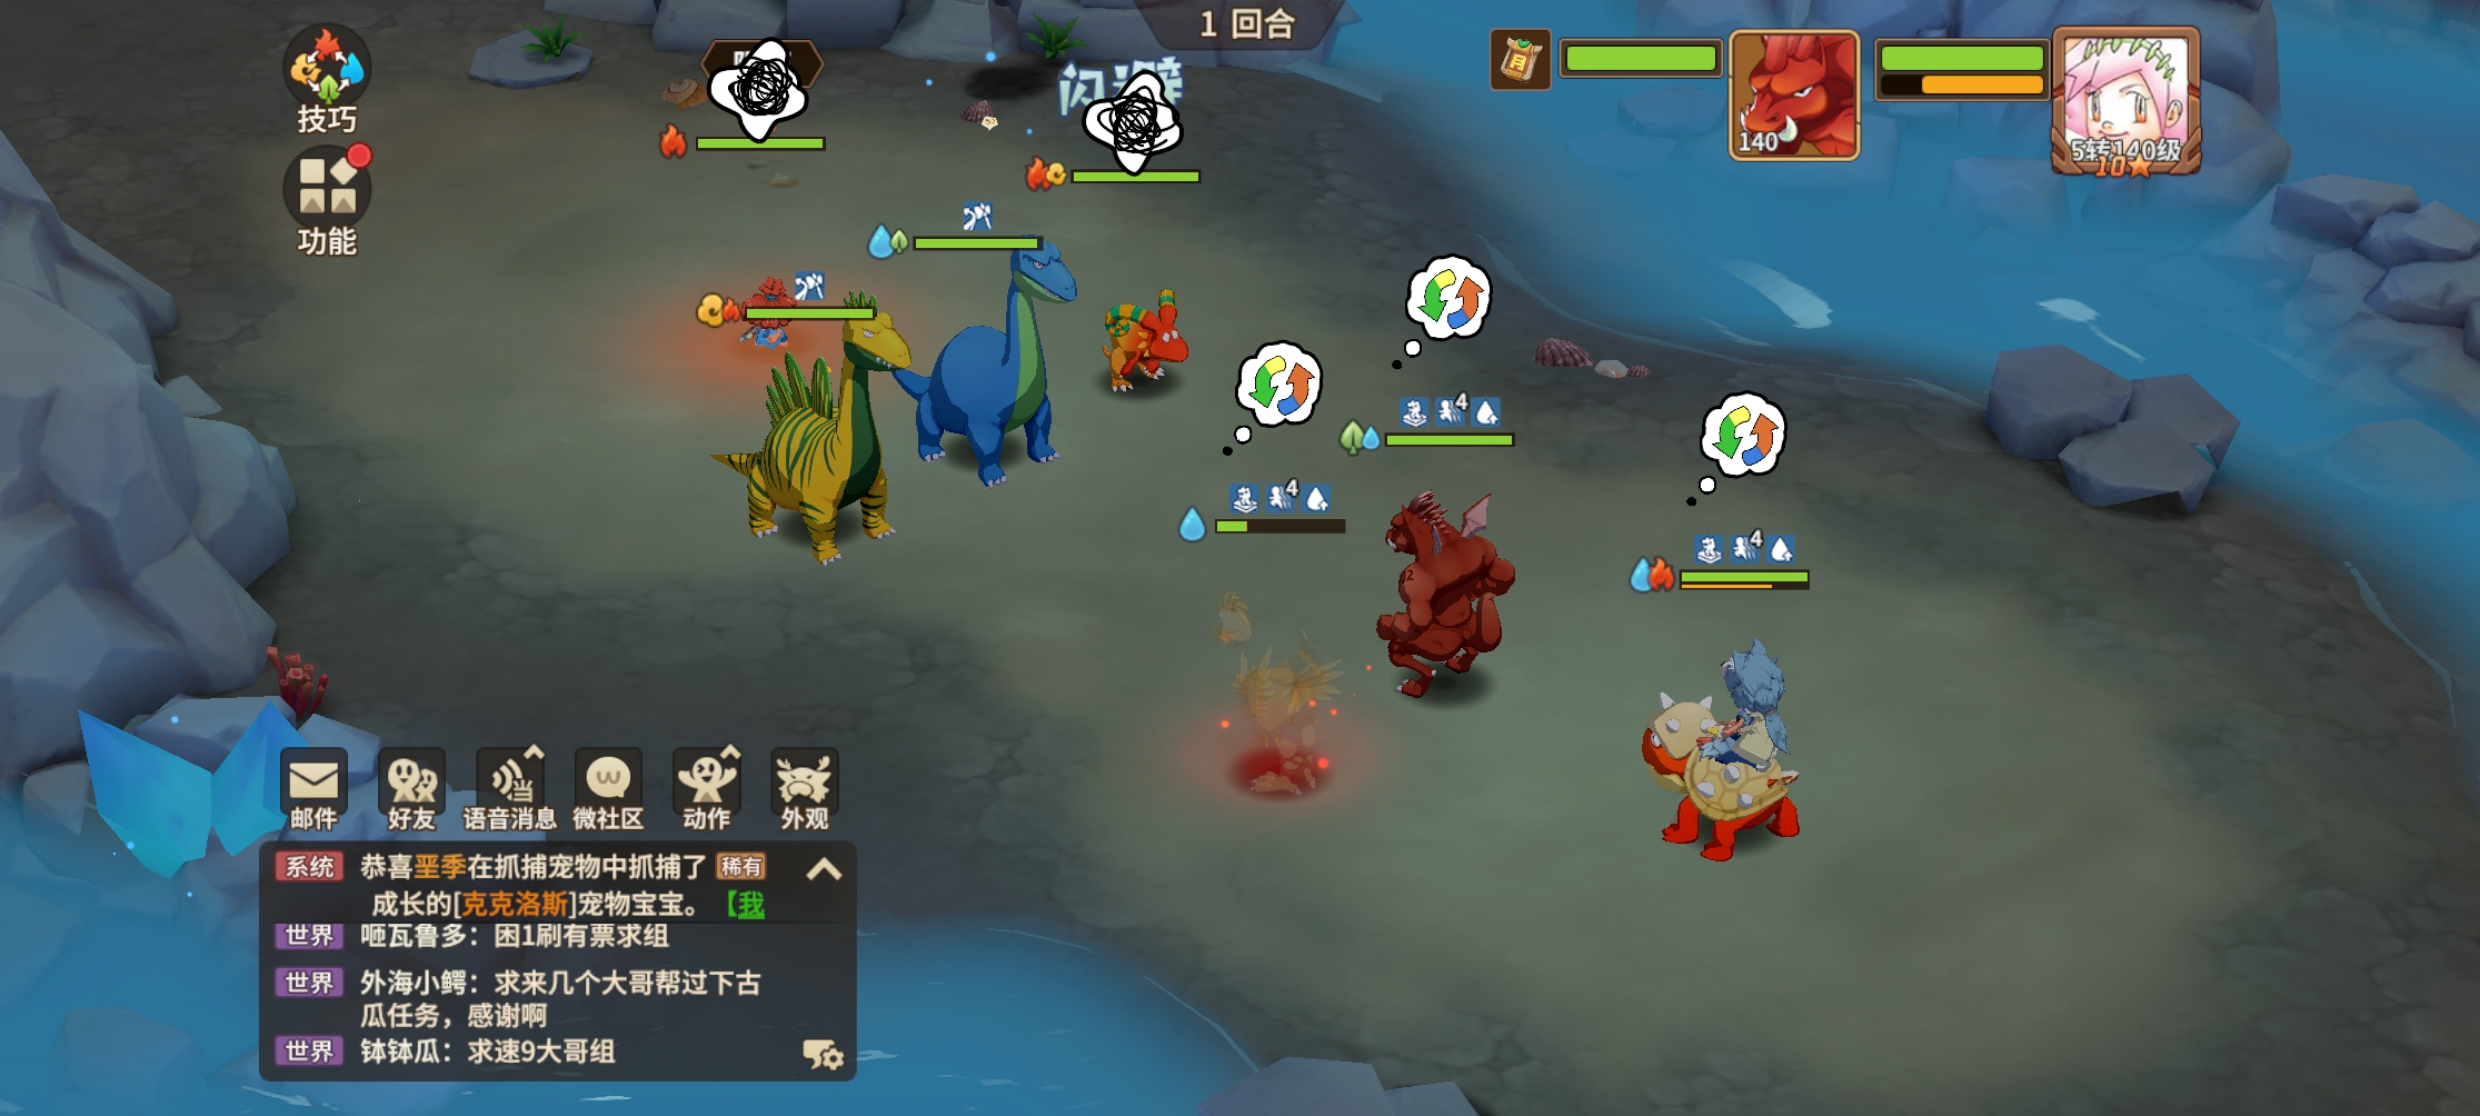葛雷吉鲁: (1373, 484, 1522, 714)
